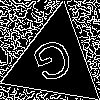G: (29, 36, 80, 93)
